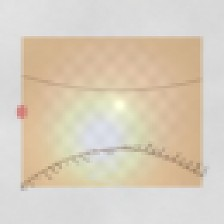foreign_body_visible: (103, 92, 143, 124)
